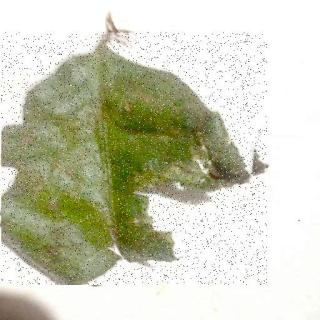Red Leaf Spot: (3, 34, 268, 286)
